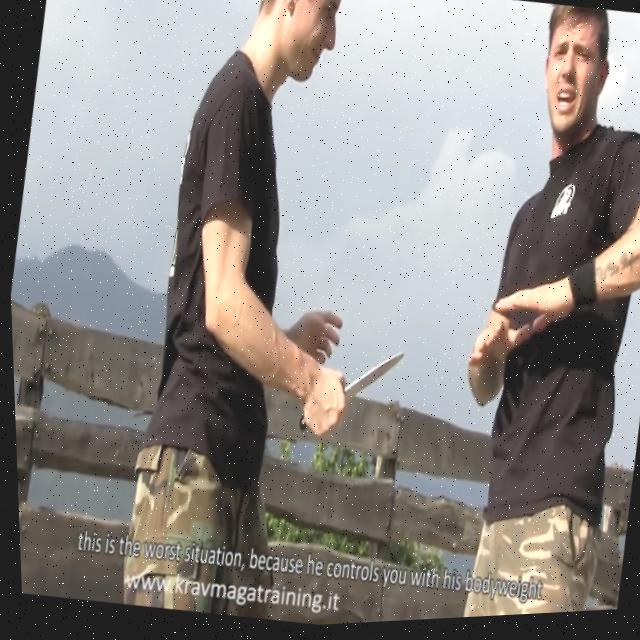knife: (337, 336, 411, 414)
